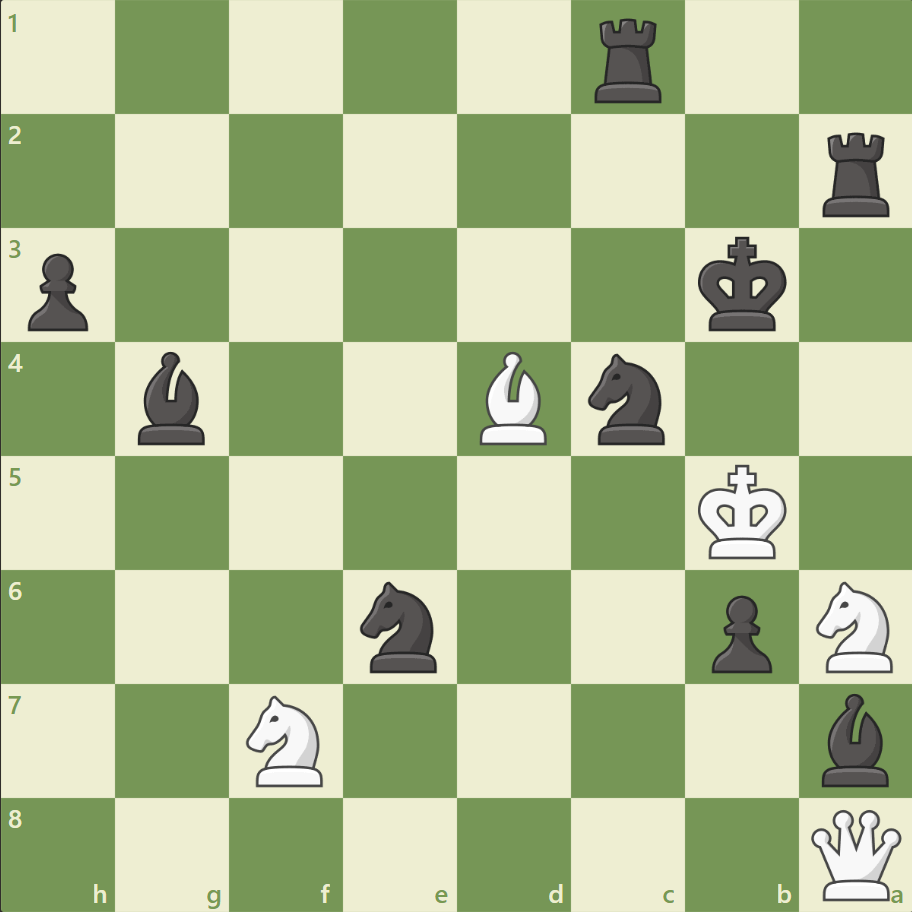B: (471, 347, 555, 449)
K: (692, 458, 792, 566)
N: (238, 688, 335, 791), (806, 575, 903, 677)
Q: (805, 804, 904, 903)
b: (812, 687, 896, 790), (131, 347, 215, 449)
k: (692, 231, 792, 339)
n: (351, 575, 449, 677), (579, 348, 676, 450)
p: (701, 586, 776, 677), (20, 246, 95, 337)
r: (814, 125, 897, 222), (587, 12, 670, 109)
